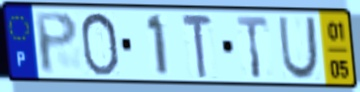1: (144, 13, 173, 78)
O: (79, 11, 121, 79)
P: (32, 10, 81, 77)
T: (179, 12, 215, 80), (234, 14, 271, 80)
U: (276, 15, 321, 82)
